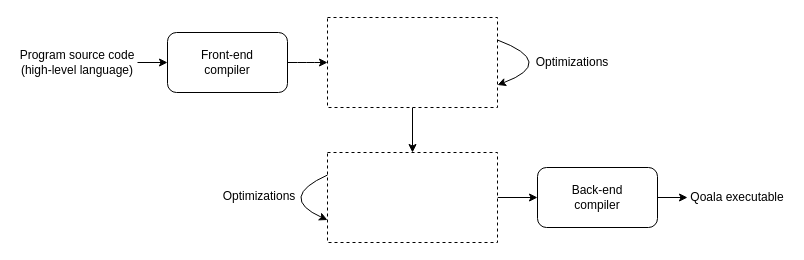
Some shapes in this 804 by 260 pixel diagram are drawn without their labels. The centre of each missing label's shape, as x and y in pixels:
QoalaHIR Hybrid classical-quantum Quantum values Complex control-flow: (412,62)
QoalaLIR Separated CPS and QPS code Quantum memory addresses Simple control-flow: (412,197)
